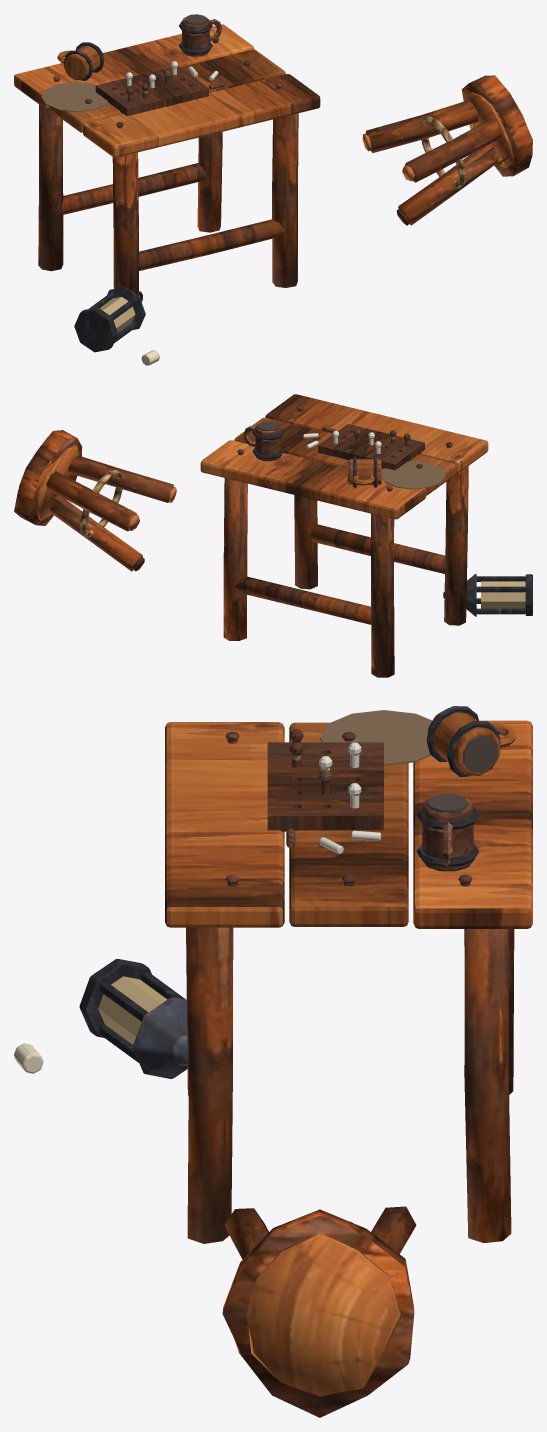
The model's file is mg_last_watch.glb.
3 renders of one model, top to bottom at view 1: azimuth 30°, elevation 25°; view 2: azimuth 150°, elevation 25°; view 3: azimuth 270°, elevation 25°, orthographic. The views are drawn at different scales.
Parts seen in each view (by area): view 1: model; view 2: model; view 3: model.
Boxes of the visible parts, x1,y1,x2,y2 form: model: (14,14,532,365); model: (14,394,532,677); model: (14,706,532,1417).
Bounding box in the file's own units: 1.79 × 0.7765 × 0.8914.
Materials: 21 (16 with a texture image).
